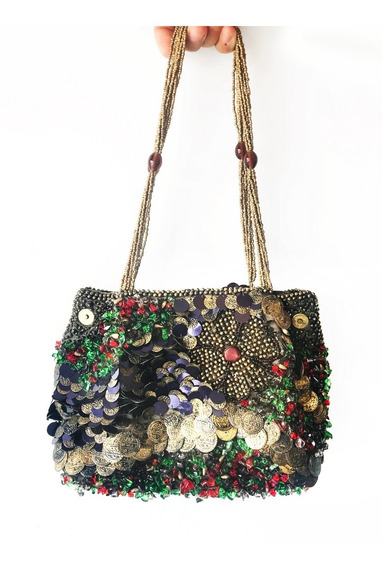cartera: (47, 23, 333, 498)
